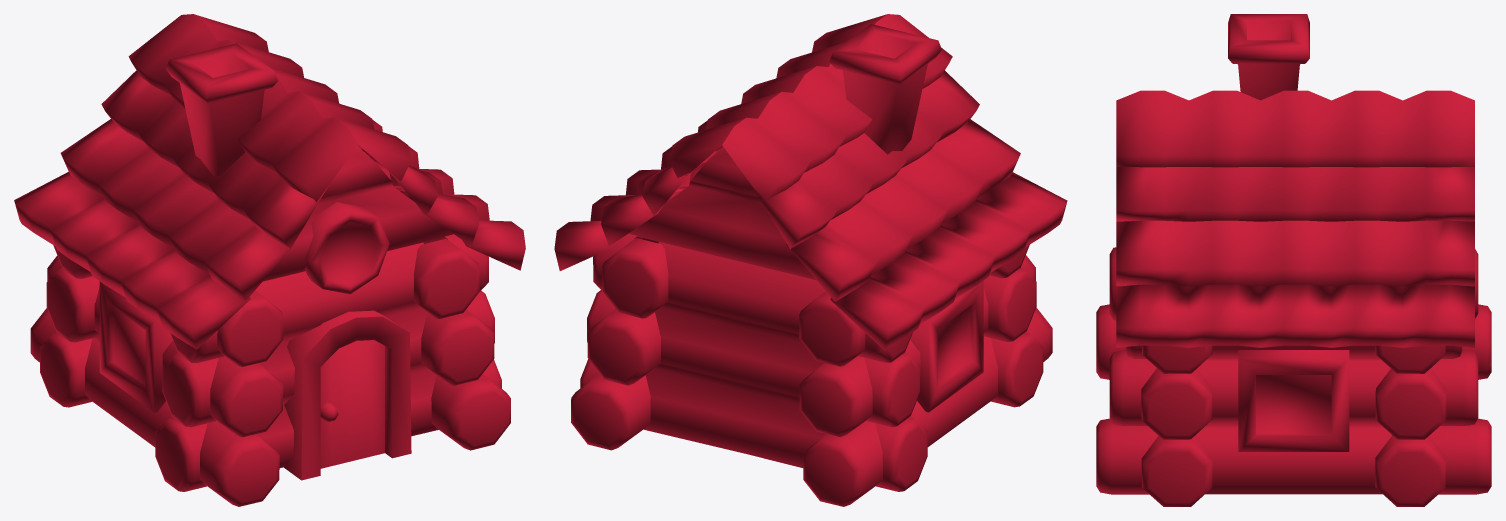
The model's file is SM_Shelter_01_LOD0.fbx.
3 renders of one model, left to right at view 1: azimuth 30°, elevation 25°; view 2: azimuth 150°, elevation 25°; view 3: azimuth 270°, elevation 25°, orthographic.
Parts seen in each view (by area): view 1: SM_Shelter_01_LOD0; view 2: SM_Shelter_01_LOD0; view 3: SM_Shelter_01_LOD0.
Boxes of the visible parts, x1,y1,x2,y2 form: SM_Shelter_01_LOD0: (14,14,525,506); SM_Shelter_01_LOD0: (554,14,1067,506); SM_Shelter_01_LOD0: (1096,14,1491,506).
Size of the model in its own units: 582 by 576 by 557.
